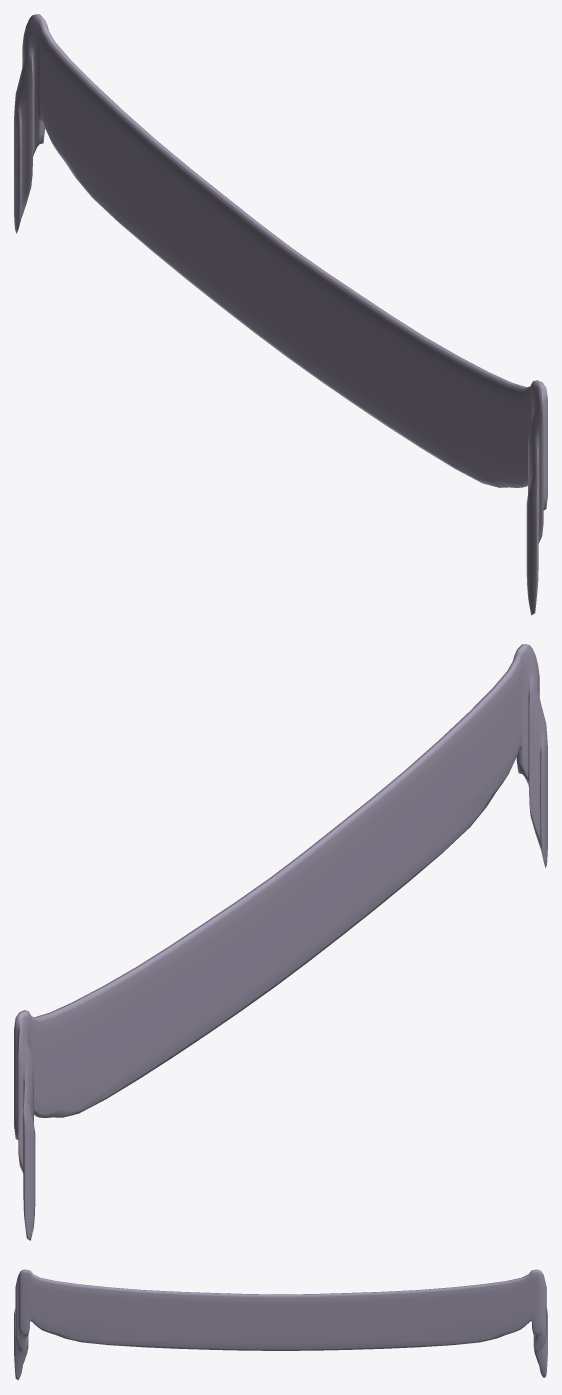
Rendered from BannerLong.fbx.
3 renders of one model, top to bottom at view 1: azimuth 30°, elevation 25°; view 2: azimuth 150°, elevation 25°; view 3: azimuth 270°, elevation 25°, orthographic. The views are drawn at different scales.
Parts seen in each view (by area): view 1: longbanner1; view 2: longbanner1; view 3: longbanner1.
Part boxes in pixels (x1=…): longbanner1: x1=14, y1=14, x2=547, y2=615; longbanner1: x1=14, y1=644, x2=547, y2=1240; longbanner1: x1=14, y1=1269, x2=547, y2=1380.
Bounding box in the file's own units: 0.7459 × 7.98 × 33.74.
